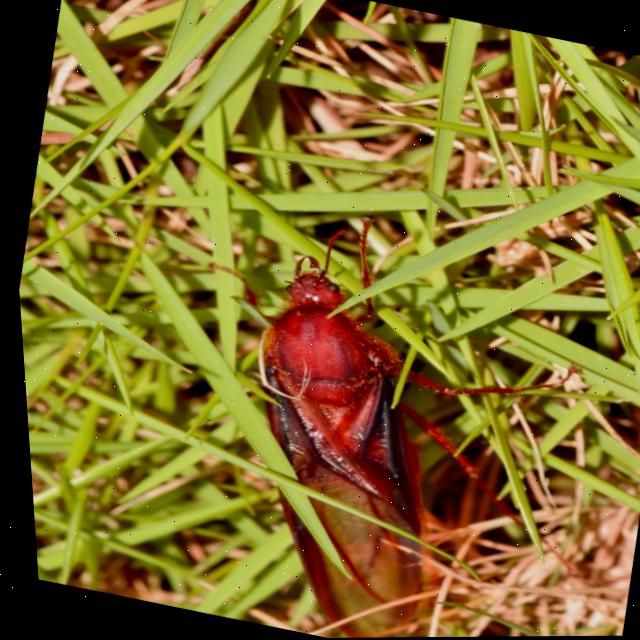Alive-Male-Alate: (126, 183, 640, 639)
